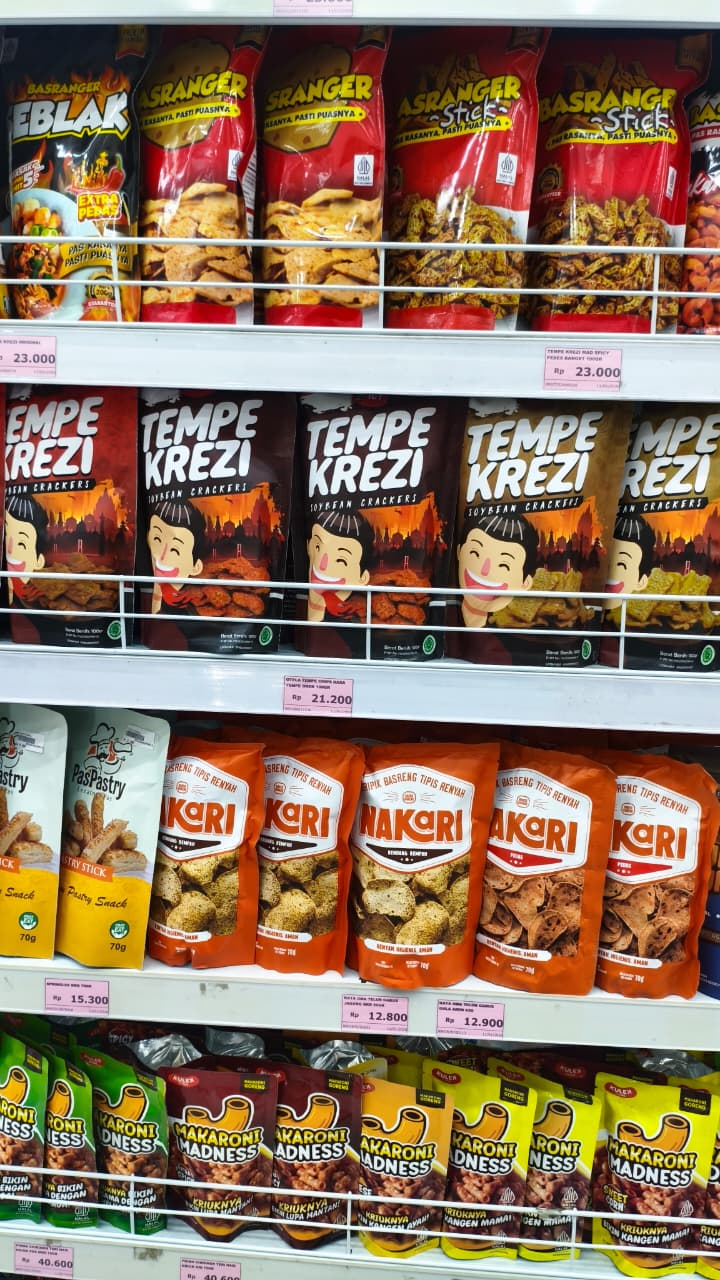Makaroni madness: (158, 1088, 277, 1203), (597, 1110, 716, 1225)
Nakari: (354, 769, 475, 956)
Tempe krezi: (135, 389, 280, 590), (462, 398, 607, 599)
